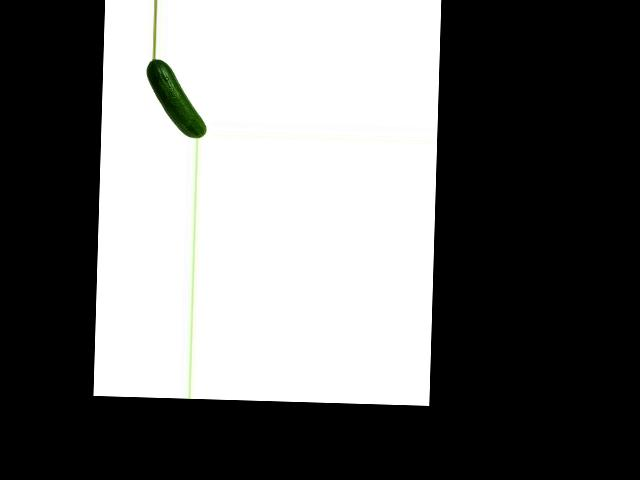cucumber: (144, 58, 208, 138)
